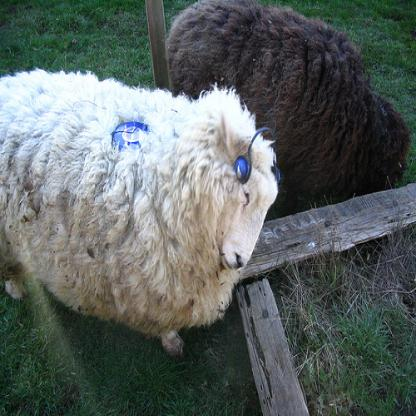sheep: (0, 67, 281, 355), (165, 0, 410, 220)
